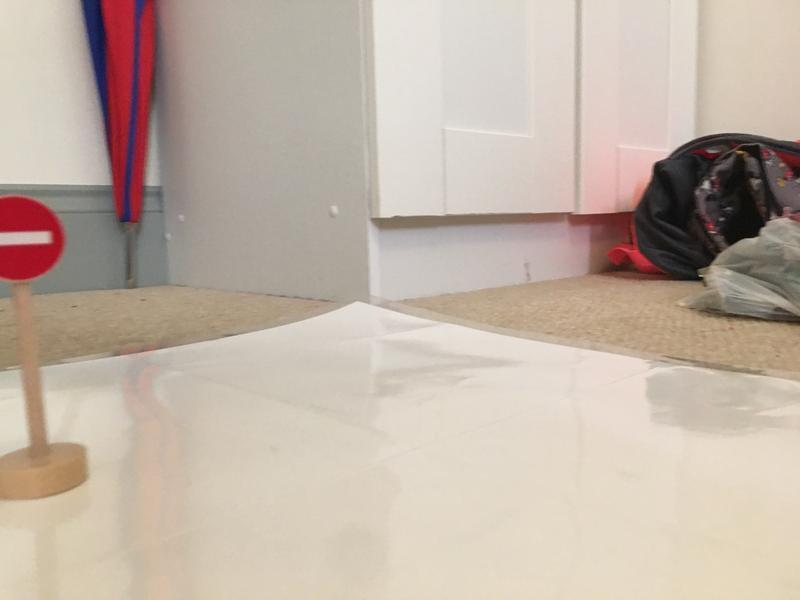Traffic_Sign_No_Entry: (1, 197, 65, 284)
